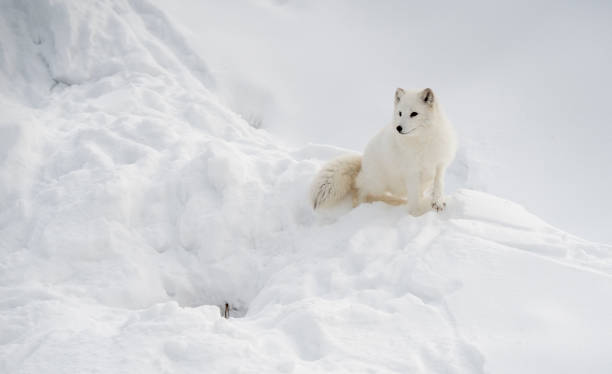arcticfox: (389, 90, 431, 154)
